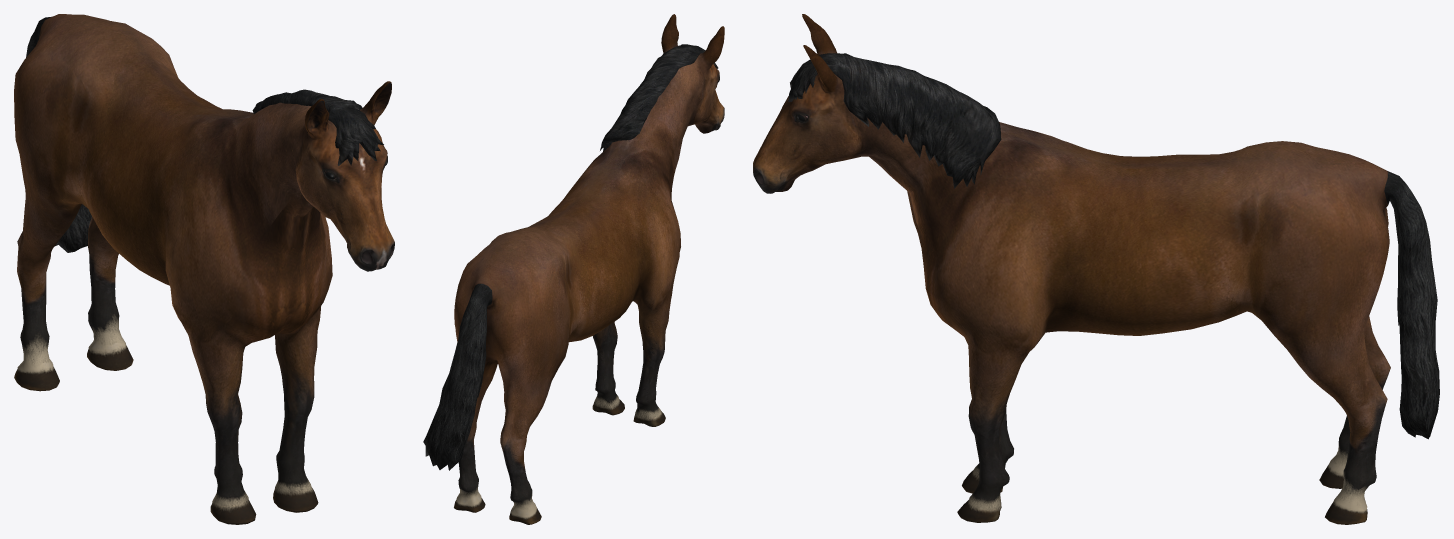
3 renders of one model, left to right at view 1: azimuth 30°, elevation 25°; view 2: azimuth 150°, elevation 25°; view 3: azimuth 270°, elevation 25°, orthographic. The views are drawn at different scales.
Visible parts, largest first — view 1: ET00002; view 2: ET00002; view 3: ET00002.
Boxes of the visible parts, bbox=[...] form: ET00002: bbox=[14, 14, 394, 524]; ET00002: bbox=[423, 14, 724, 524]; ET00002: bbox=[753, 14, 1439, 524].
Size of the model in its own units: 0.4517 by 1.5 by 1.98.
1 material, 1 textured.
